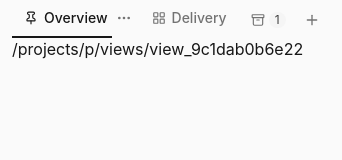
Test: view tabs › adds a blank view, opens it, and starts customizing
Click the button named "New view": x=312, y=20 top-left (298, 6), bottom-right (326, 34)
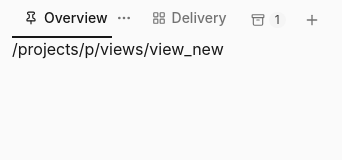
Now the text with test id "path" reads "/projects/p/views/view_new", box top-left (12, 39), bottom-right (224, 59)
